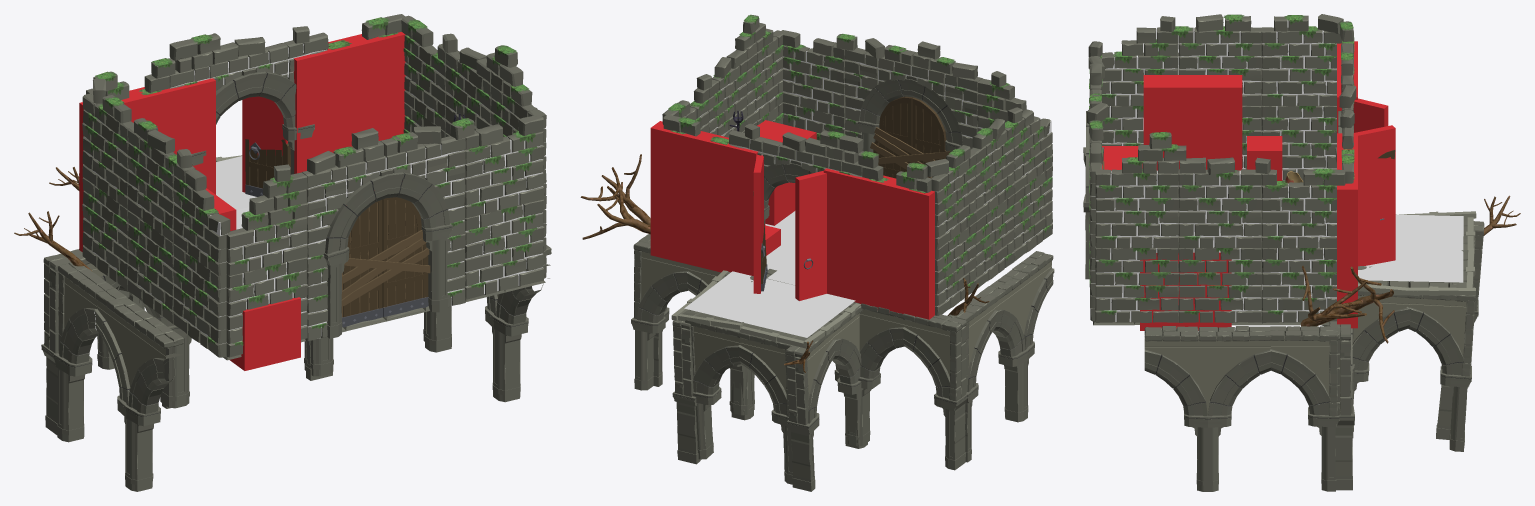
Rendered from ruins.glb.
3 renders of one model, left to right at view 1: azimuth 30°, elevation 25°; view 2: azimuth 150°, elevation 25°; view 3: azimuth 270°, elevation 25°, orthographic. The views are drawn at different scales.
Visible parts, largest first — view 1: Wall_Overgrown.005, Support_Left.006, Wall_Overgrown.024, Wall_Overgrown.002, Wall_Overgrown.021, teleportBlocker7, Doors_RoundArch_Covered.001, teleportBlocker6, teleportBlocker3, teleportBlocker9, Doors_RoundArch_R.001, teleportSurface2 (+2 smaller); view 2: Support_Left.006, Wall_Overgrown.005, Wall_Overgrown.024, teleportBlocker6, teleportBlocker7, Wall_Overgrown.021, Wall_Overgrown.002, teleportSurface2, Doors_RoundArch_Covered.001, teleportBlocker8, Floor_Hole_Straight.002, DeadTree_3.001 (+3 smaller); view 3: Wall_Overgrown.021, Support_Left.006, Wall_Overgrown.024, teleportBlocker1, teleportSurface2, teleportBlocker9, Wall_Overgrown.005, teleportBlocker7, Floor_Hole_Straight.002, Wall_Overgrown.002, DeadTree_3.001, teleportBlocker2 (+6 smaller).
Boxes of the visible parts, bbox=[...] form: Wall_Overgrown.005: bbox=[226, 115, 544, 357]; Support_Left.006: bbox=[41, 245, 551, 491]; Wall_Overgrown.024: bbox=[82, 79, 230, 357]; Wall_Overgrown.002: bbox=[86, 14, 405, 174]; Wall_Overgrown.021: bbox=[401, 15, 546, 278]; teleportBlocker7: bbox=[293, 32, 405, 173]; Doors_RoundArch_Covered.001: bbox=[341, 197, 430, 327]; teleportBlocker6: bbox=[79, 78, 215, 251]; teleportBlocker3: bbox=[230, 297, 300, 370]; teleportBlocker9: bbox=[242, 96, 287, 192]; Doors_RoundArch_R.001: bbox=[245, 139, 290, 196]; teleportSurface2: bbox=[216, 156, 256, 210]; Support_Left.006: bbox=[631, 234, 1054, 491]; Wall_Overgrown.005: bbox=[781, 30, 1026, 152]; Wall_Overgrown.024: bbox=[925, 107, 1052, 315]; teleportBlocker6: bbox=[823, 168, 934, 319]; teleportBlocker7: bbox=[650, 121, 765, 275]; Wall_Overgrown.021: bbox=[662, 14, 784, 137]; Wall_Overgrown.002: bbox=[663, 114, 932, 223]; teleportSurface2: bbox=[684, 271, 855, 337]; Doors_RoundArch_Covered.001: bbox=[870, 96, 950, 178]; teleportBlocker8: bbox=[795, 171, 826, 300]; Floor_Hole_Straight.002: bbox=[671, 270, 860, 348]; DeadTree_3.001: bbox=[580, 154, 650, 239]; Wall_Overgrown.021: bbox=[1095, 131, 1345, 322]; Support_Left.006: bbox=[1144, 221, 1484, 491]; Wall_Overgrown.024: bbox=[1102, 14, 1343, 180]; teleportBlocker1: bbox=[1143, 75, 1242, 170]; teleportSurface2: bbox=[1358, 214, 1463, 282]; teleportBlocker9: bbox=[1354, 125, 1395, 266]; Wall_Overgrown.005: bbox=[1083, 41, 1108, 321]; teleportBlocker7: bbox=[1337, 133, 1357, 328]; Floor_Hole_Straight.002: bbox=[1358, 211, 1476, 296]; Wall_Overgrown.002: bbox=[1335, 21, 1356, 183]; DeadTree_3.001: bbox=[1300, 265, 1394, 343]; teleportBlocker2: bbox=[1140, 252, 1231, 330].
Bounding box in the file's own units: 12.03 × 9.22 × 10.38.
Materials: 31 (3 with a texture image).
